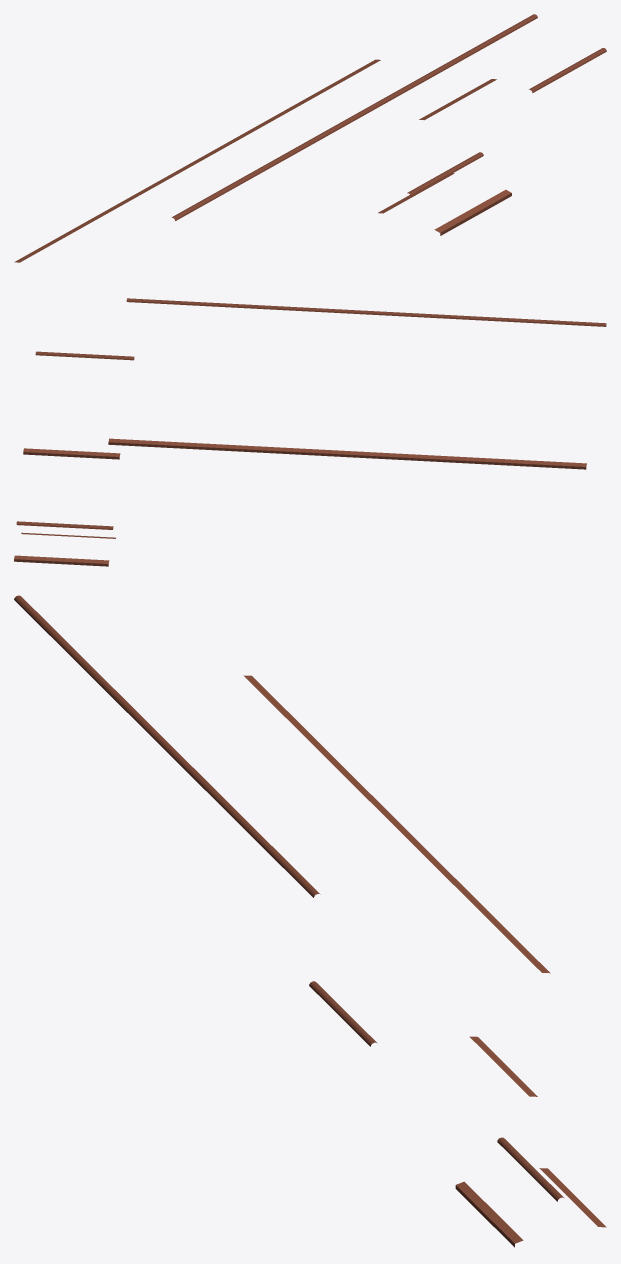
3 views of the same model, one above another, from view 1: azimuth 30°, elevation 25°; view 2: azimuth 150°, elevation 25°; view 3: azimuth 270°, elevation 25° (orthographic). The views are drawn at different scales.
Visible parts, largest first — view 1: detail; view 2: detail; view 3: detail.
Part boxes in pixels (x1,y1,x2,y2): detail: [14, 14, 606, 262]; detail: [14, 298, 606, 566]; detail: [14, 595, 606, 1247].
Size of the model in its own units: 31.91 by 12.12 by 20.13.
